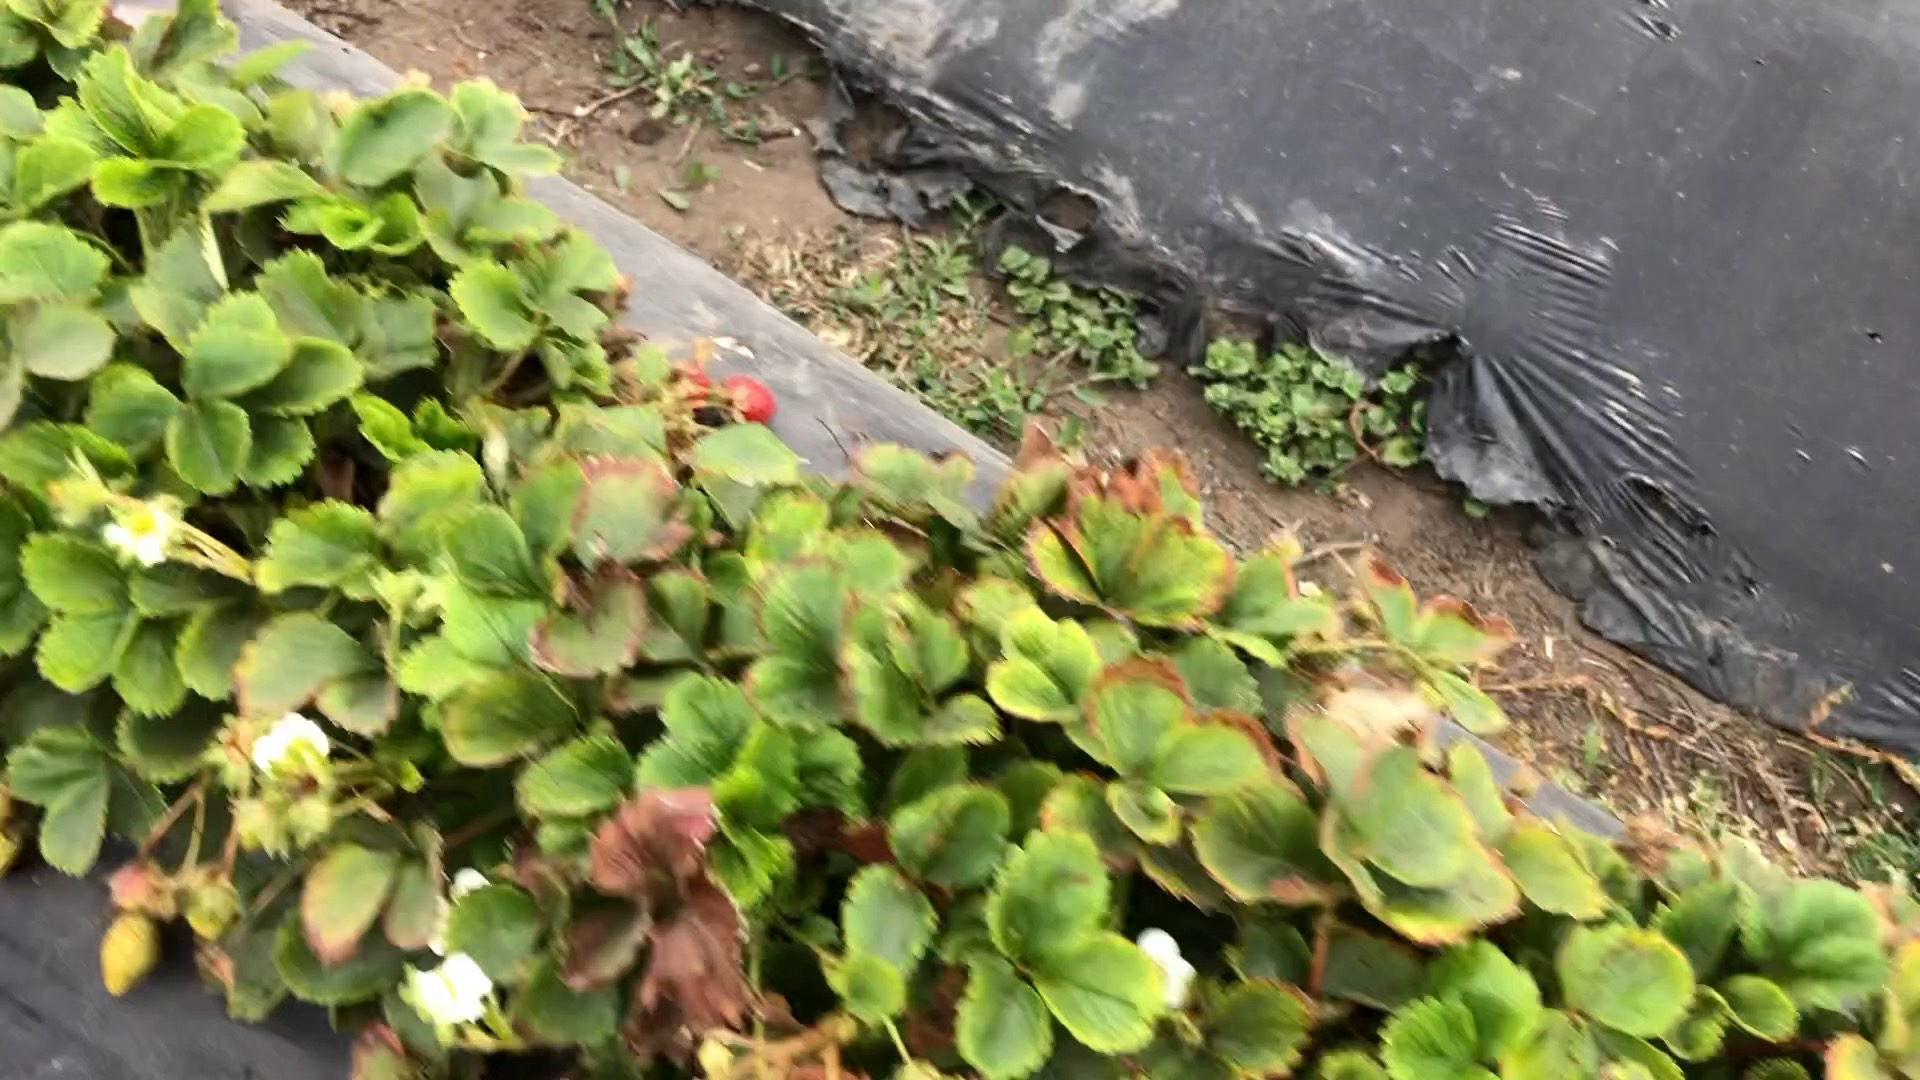ripe_strawberry: (717, 373, 781, 430)
unripe_strawberry: (98, 899, 164, 1000)
